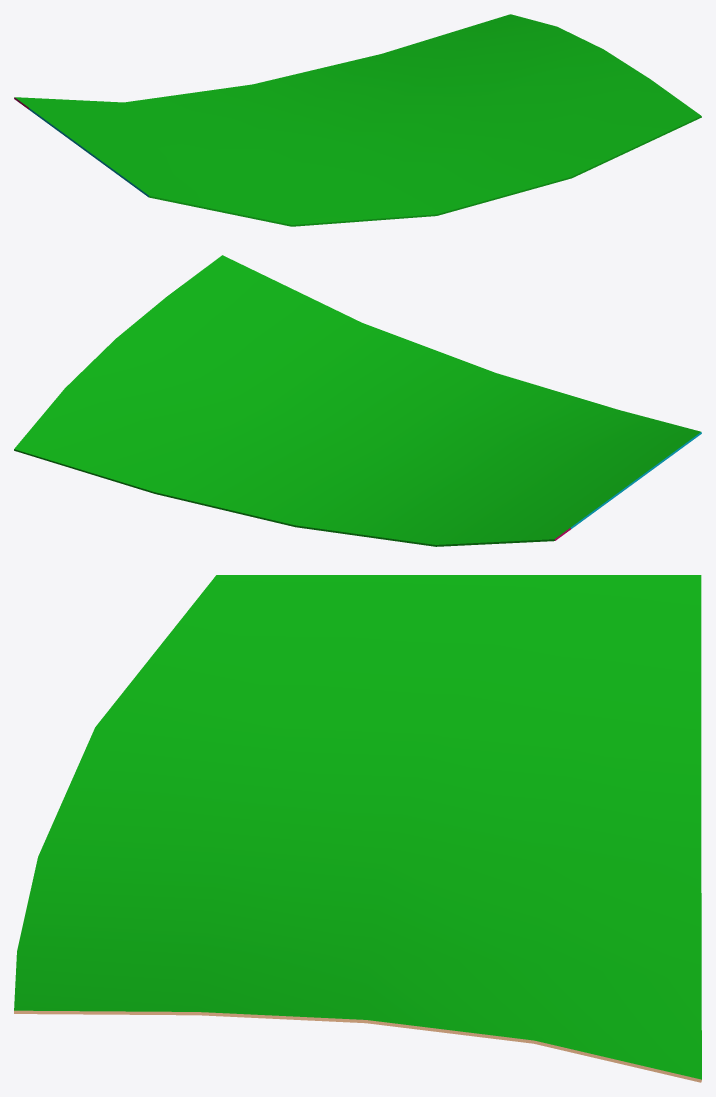
File: roof fabric.FBX
3 renders of one model, top to bottom at view 1: azimuth 30°, elevation 25°; view 2: azimuth 150°, elevation 25°; view 3: azimuth 270°, elevation 25°, orthographic. The views are drawn at different scales.
Parts seen in each view (by area): view 1: alex_round_holder_fabric_1; view 2: alex_round_holder_fabric_1; view 3: alex_round_holder_fabric_1.
Part boxes in pixels (x1=…): alex_round_holder_fabric_1: x1=14, y1=14, x2=701, y2=226; alex_round_holder_fabric_1: x1=14, y1=255, x2=701, y2=546; alex_round_holder_fabric_1: x1=14, y1=575, x2=701, y2=1082.
Size of the model in its own units: 308 by 28.46 by 205.
